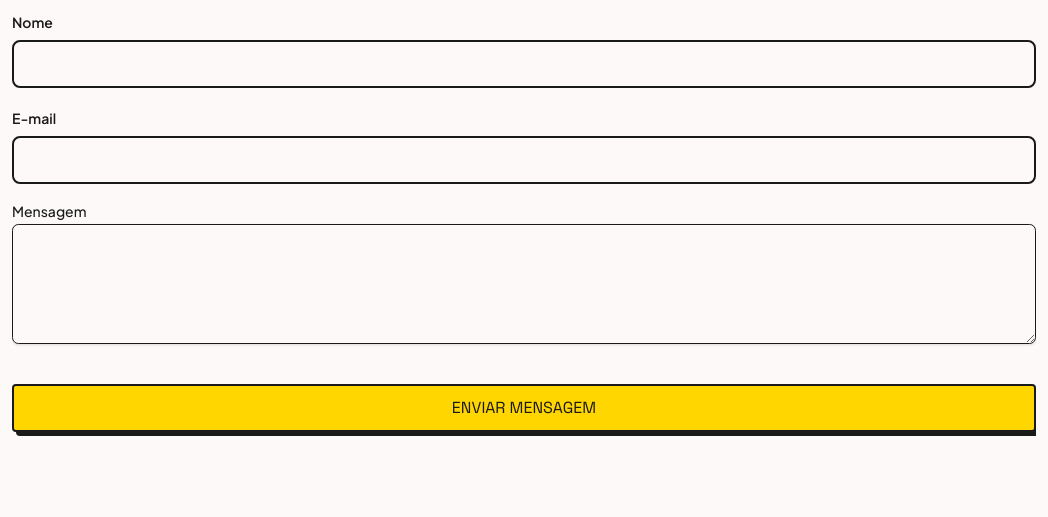
Test: Formulário de Contato › mostra mensagem de erro devolvida pelo servidor
Type "Teste" into the field labelled "Nome".
click(524, 64); type("Teste")  # box left=12, top=40, right=1036, bottom=88
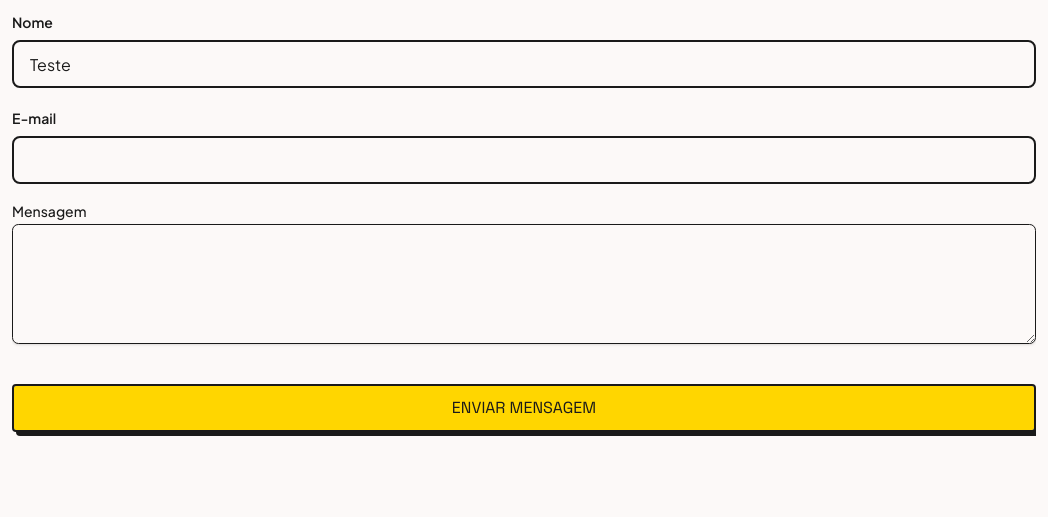
Type "teste@kolo.test" into the field labelled "E-mail".
click(524, 160); type("teste@kolo.test")  # box left=12, top=136, right=1036, bottom=184
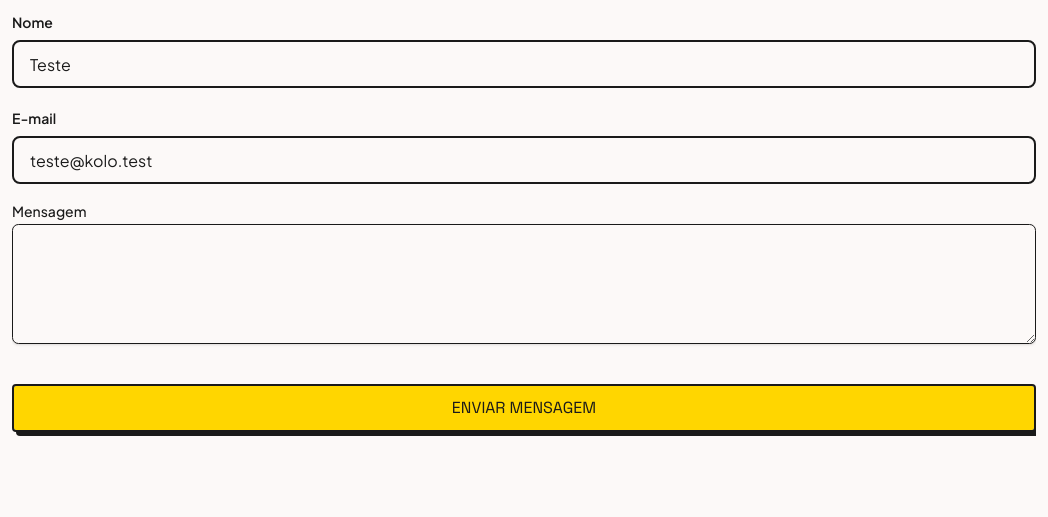
Type "Mensagem de teste aqui." into the text box labelled "Mensagem".
click(524, 284); type("Mensagem de teste aqui.")  # box left=12, top=224, right=1036, bottom=344
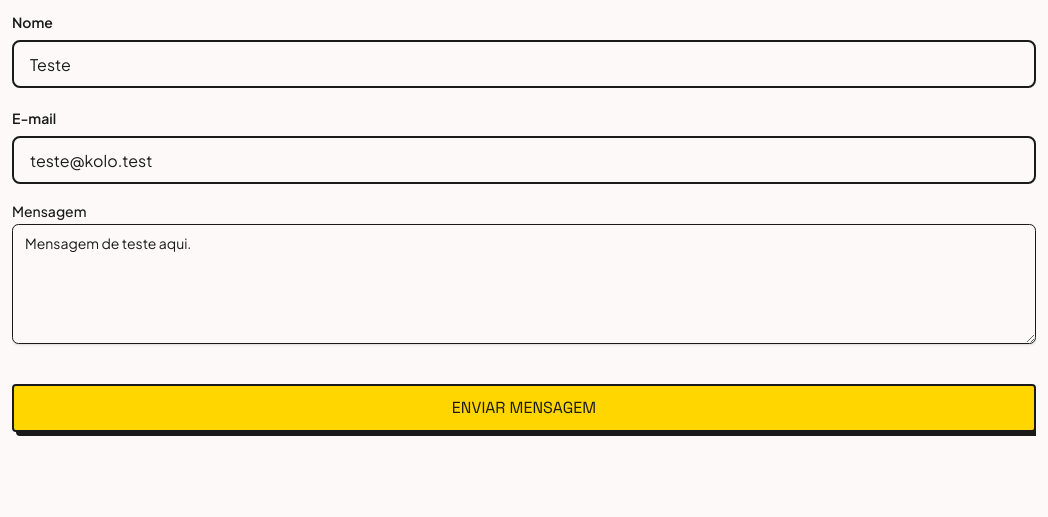
Click the button "Enviar mensagem".
click(524, 408)  # box left=12, top=384, right=1036, bottom=432
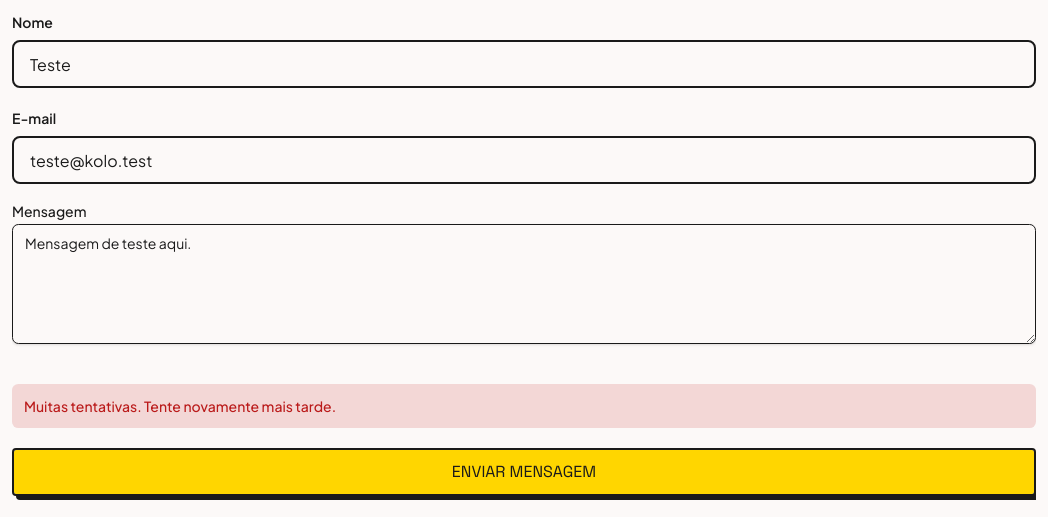
Result: the text "Muitas tentativas. Tente novamente mais tarde." is shown at left=12, top=384, right=1036, bottom=428
